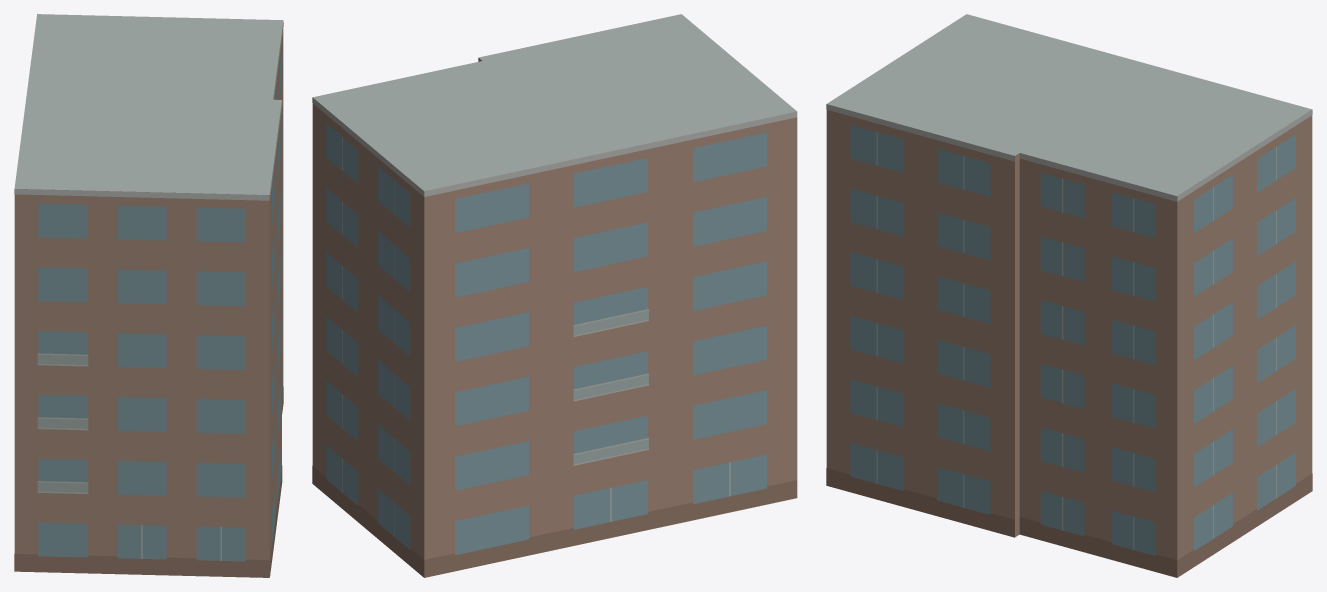
Rendered from survey-upis-32880816.glb.
The picture shows the model from 3 angles, left to right: view 1: azimuth 30°, elevation 25°; view 2: azimuth 150°, elevation 25°; view 3: azimuth 270°, elevation 25°; orthographic projection.
Visible parts, largest first — view 1: survey-upis-32880816.tmp; view 2: survey-upis-32880816.tmp; view 3: survey-upis-32880816.tmp.
Part boxes in pixels (x1,y1,x2,y2): survey-upis-32880816.tmp: [14, 14, 283, 577]; survey-upis-32880816.tmp: [312, 14, 797, 577]; survey-upis-32880816.tmp: [826, 14, 1312, 577].
Size of the model in its own units: 17.01 by 16.6 by 19.17.
